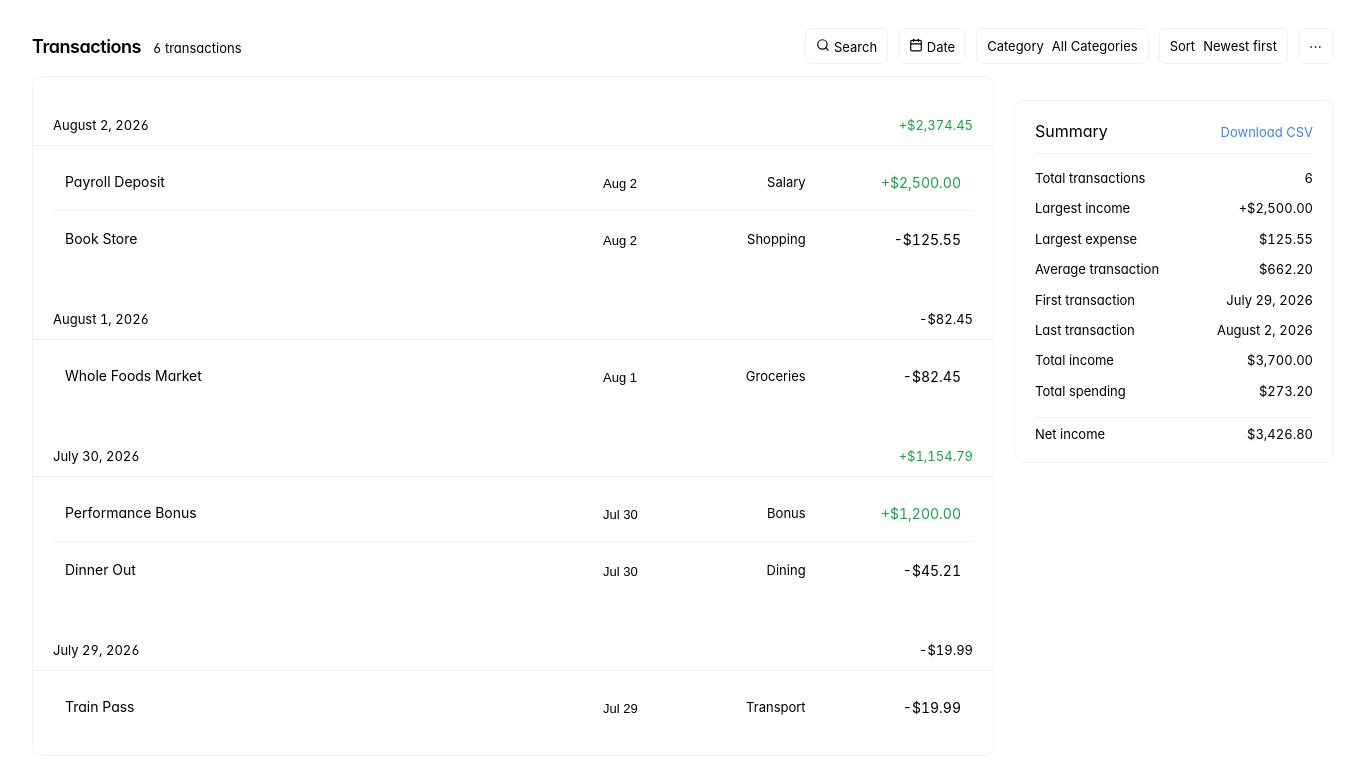
Transactions › shows a filter-empty state and clears filters when requested
Click the button "Search" at (847, 46), box 805,28 -> 888,64
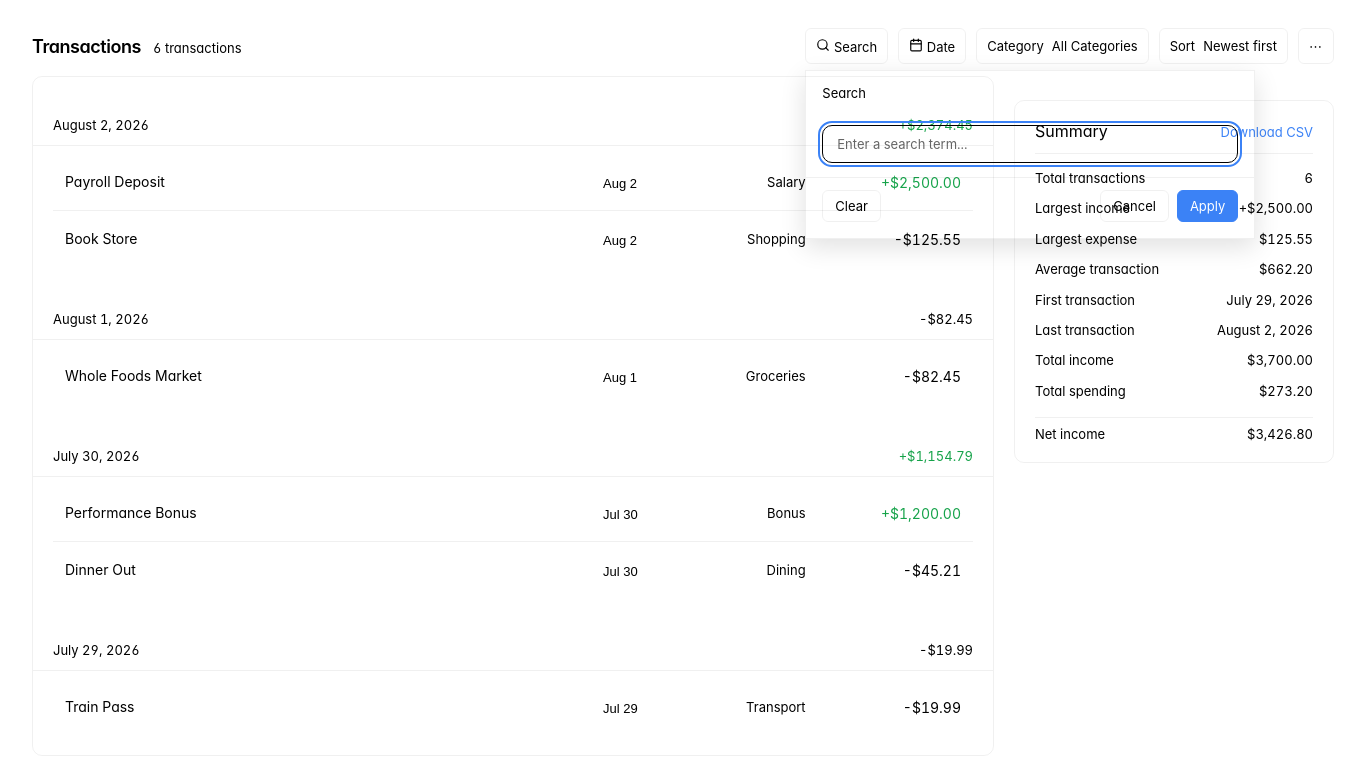
Type "missing merchant" into the search field named "Search transactions" at (1030, 144), box 822,125 -> 1238,163
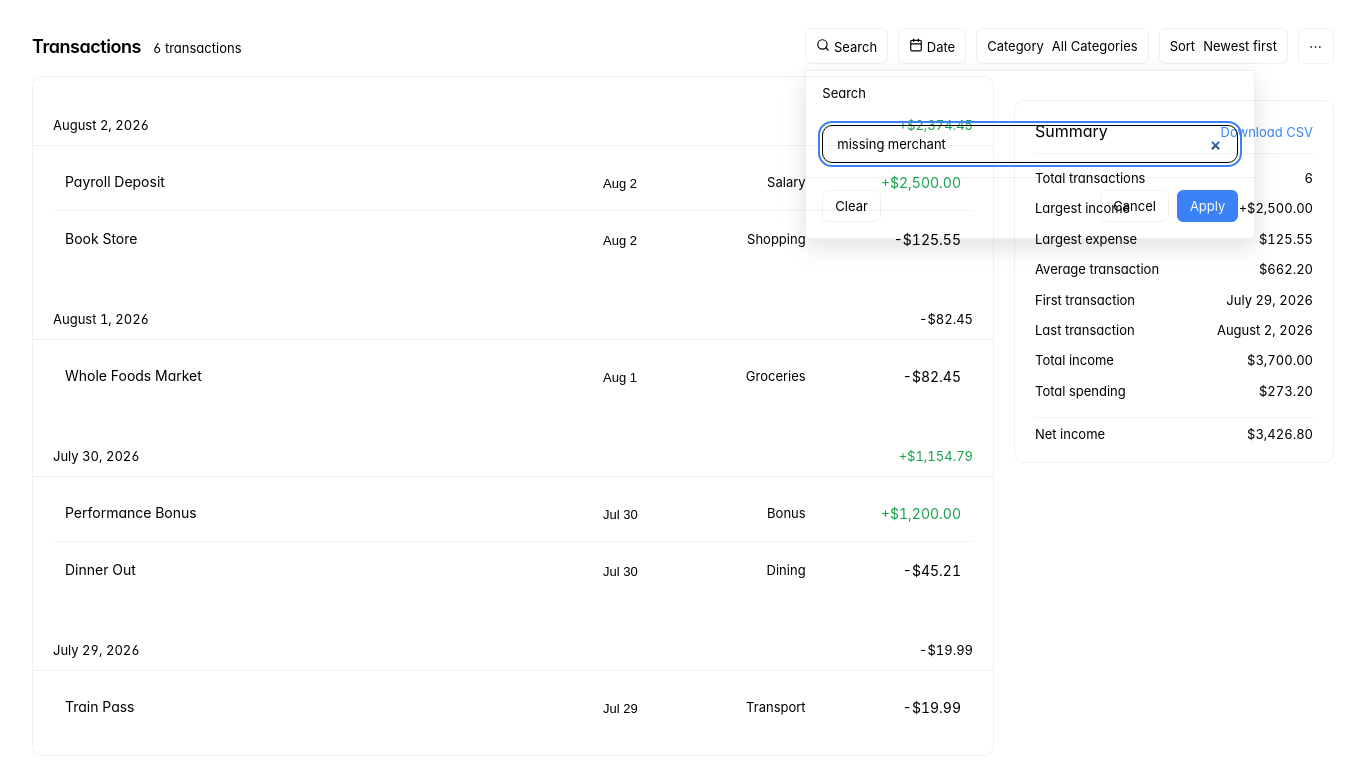
Click the button "Apply" at (1208, 206), box 1177,190 -> 1238,222
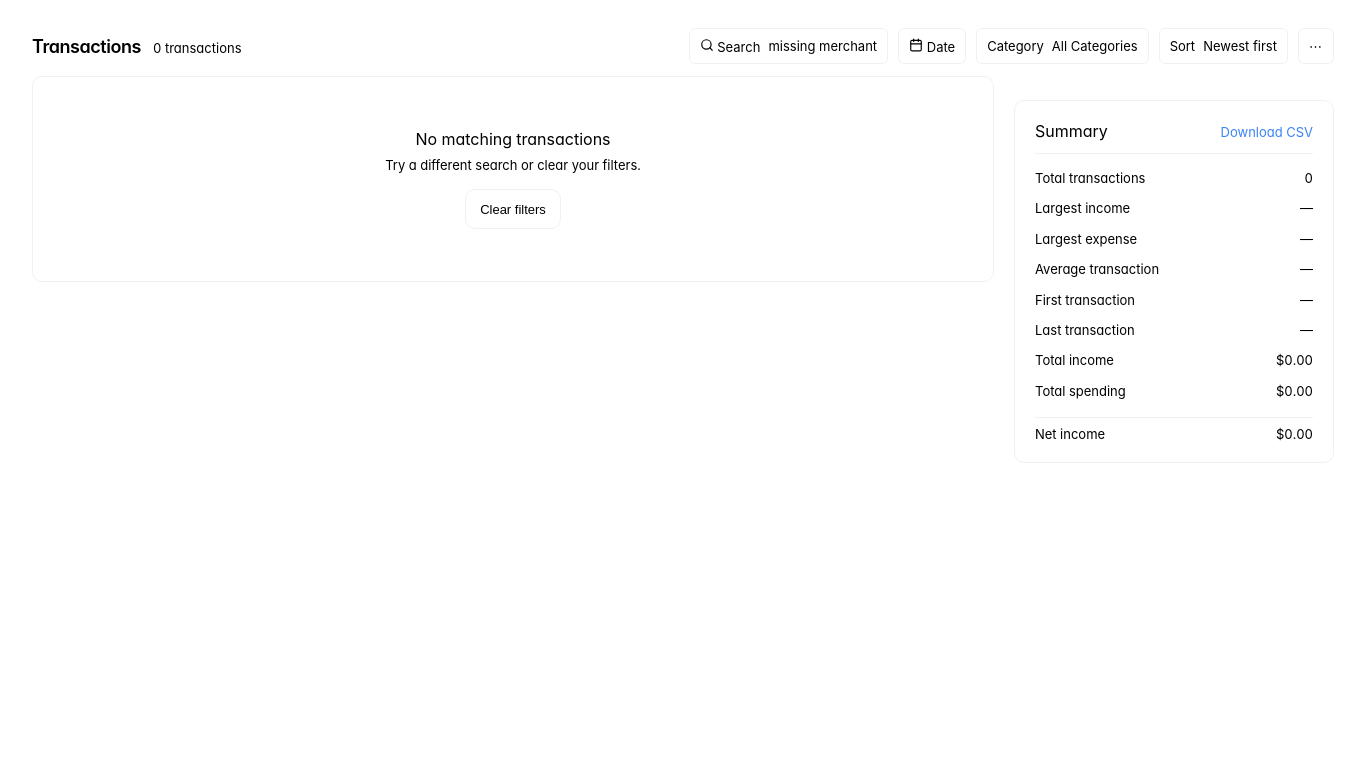
Expected: the heading "No matching transactions" is shown, 415,129 -> 610,149
Expected: the text "Try a different search or clear your filters." is shown, 385,157 -> 641,173
Click the button "Clear filters" at (513, 209), box 465,189 -> 561,229
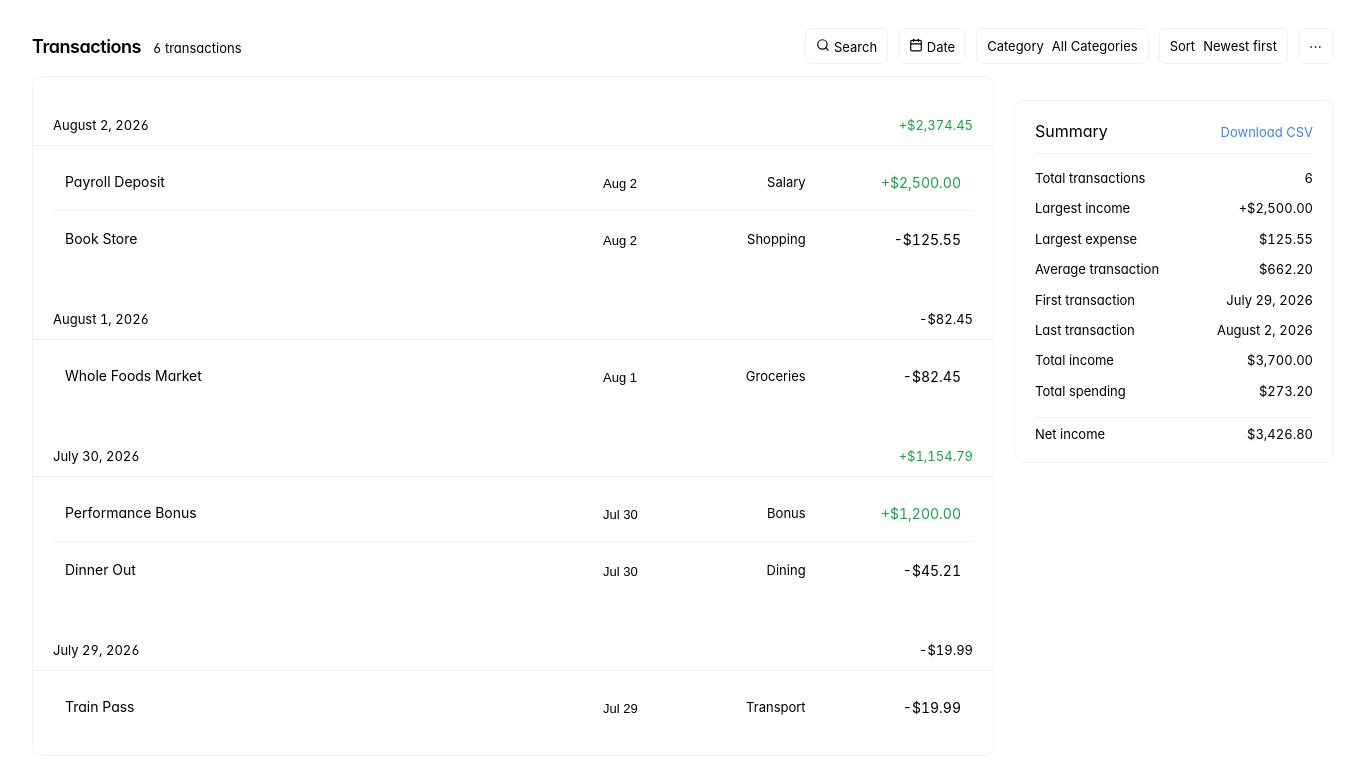
Expected: the text "Book Store" is shown, 65,230 -> 137,246
Expected: the text "6 transactions" is shown, 153,40 -> 242,56
